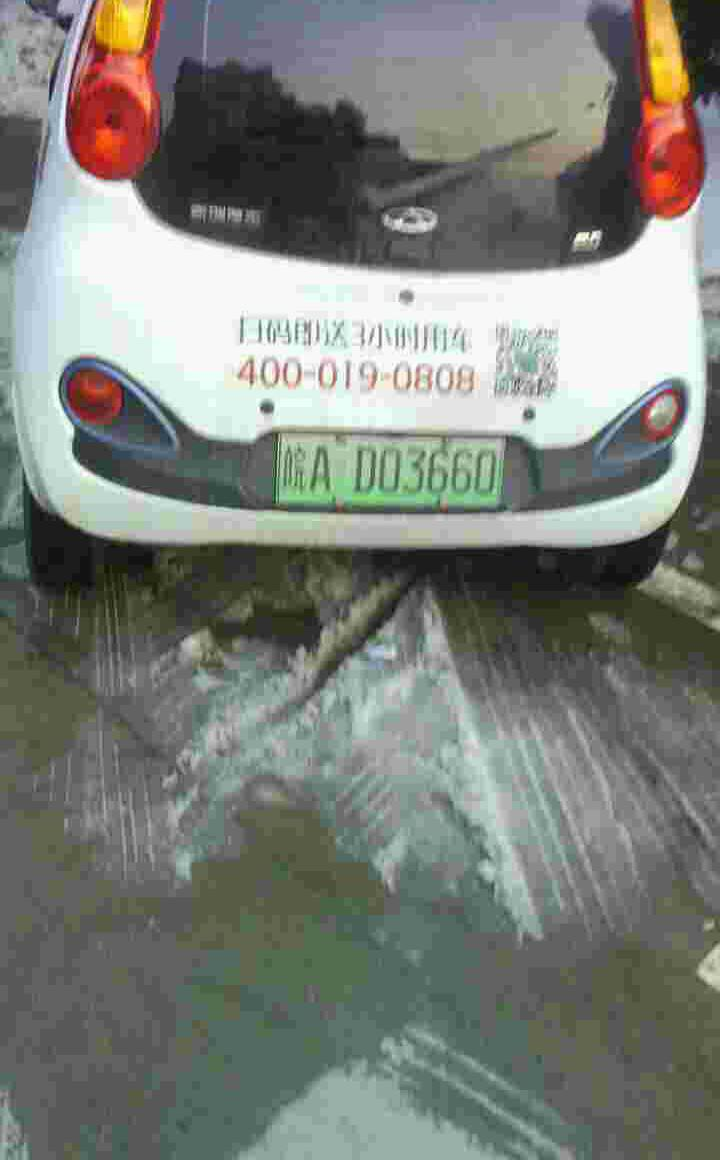car_green: (274, 423, 504, 507)
